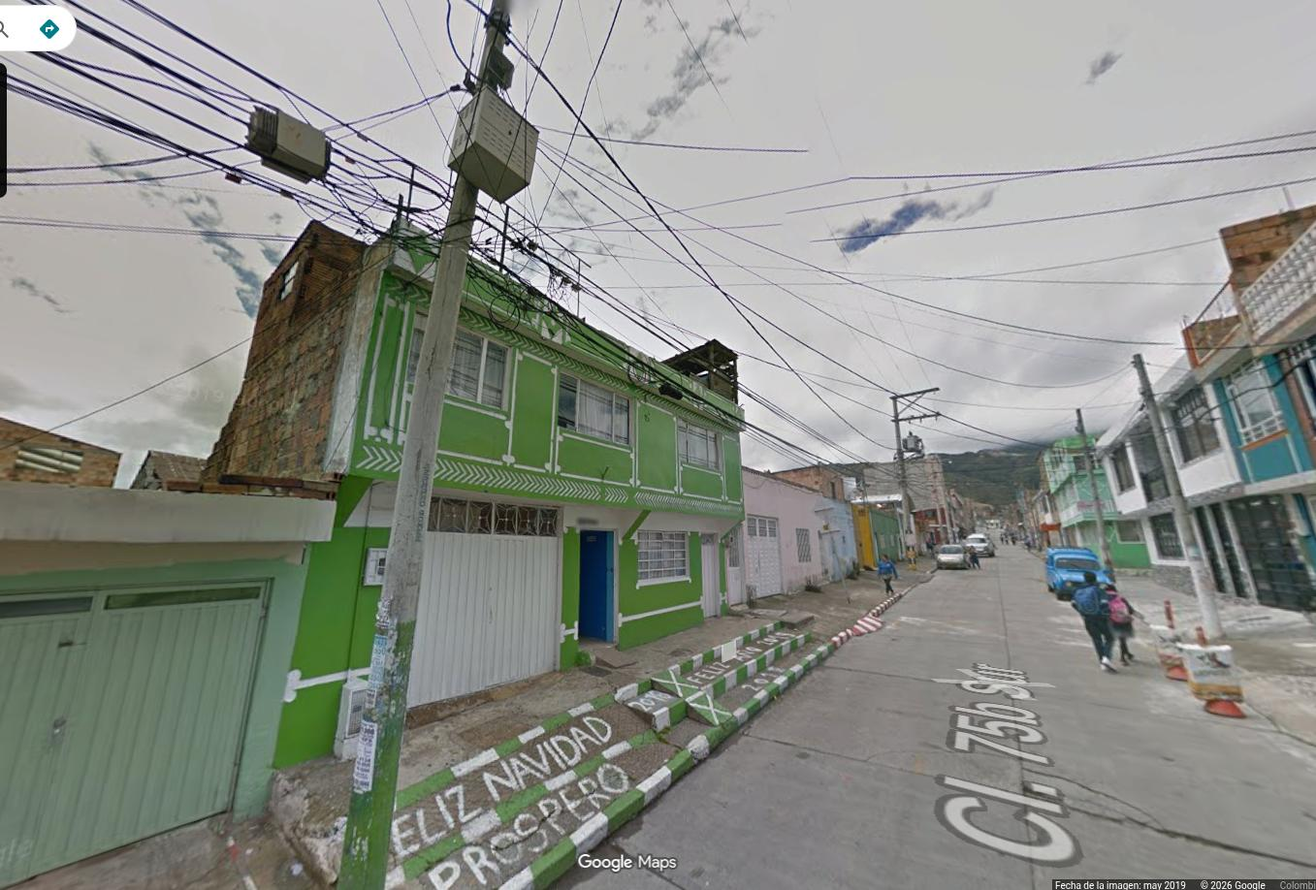casa: (409, 277, 747, 705), (205, 229, 435, 673)
poste: (337, 0, 536, 889), (1133, 354, 1223, 641), (892, 388, 939, 546), (908, 412, 940, 422)
